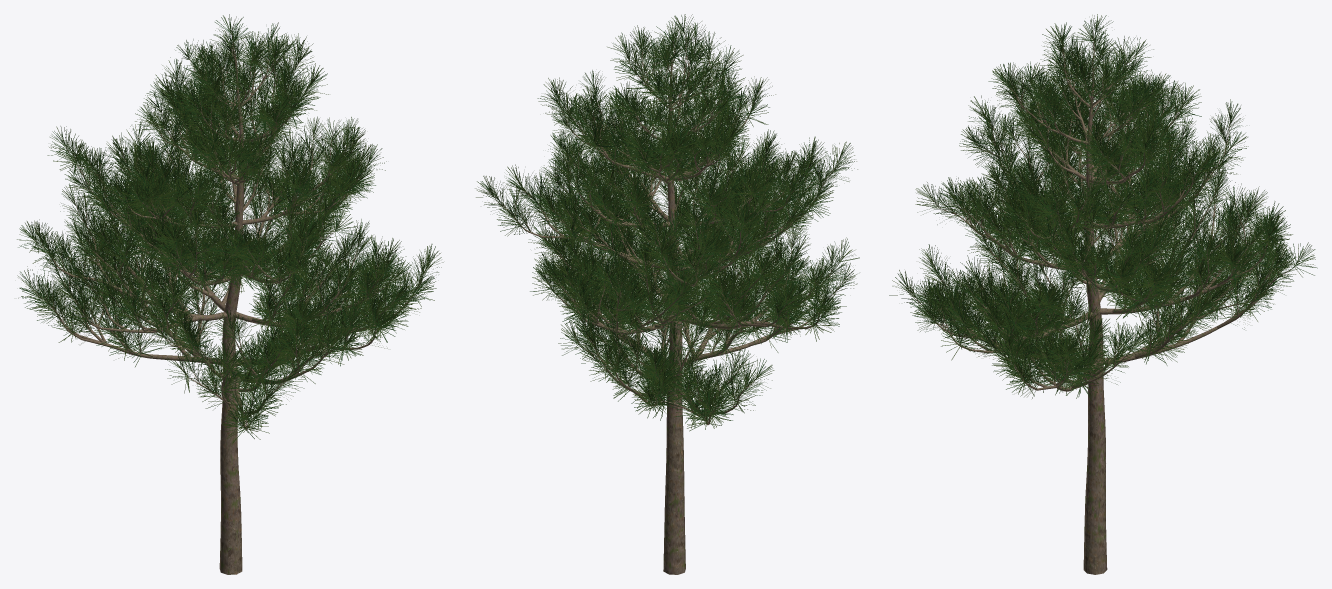
Rendered from tree.glb.
3 views of the same model, side by side, from view 1: azimuth 30°, elevation 25°; view 2: azimuth 150°, elevation 25°; view 3: azimuth 270°, elevation 25° (orthographic).
Parts seen in each view (by area): view 1: T1_Leaves, T1_Trunk; view 2: T1_Leaves, T1_Trunk; view 3: T1_Leaves, T1_Trunk.
Boxes of the visible parts, x1=… form: T1_Leaves: x1=17, y1=14, x2=443, y2=442; T1_Trunk: x1=31, y1=31, x2=428, y2=574; T1_Leaves: x1=475, y1=14, x2=859, y2=431; T1_Trunk: x1=490, y1=32, x2=844, y2=574; T1_Leaves: x1=889, y1=14, x2=1317, y2=398; T1_Trunk: x1=907, y1=32, x2=1301, y2=574.
Bounding box in the file's own units: 3.92 × 6 × 4.2.
Materials: 2 (1 with a texture image).
